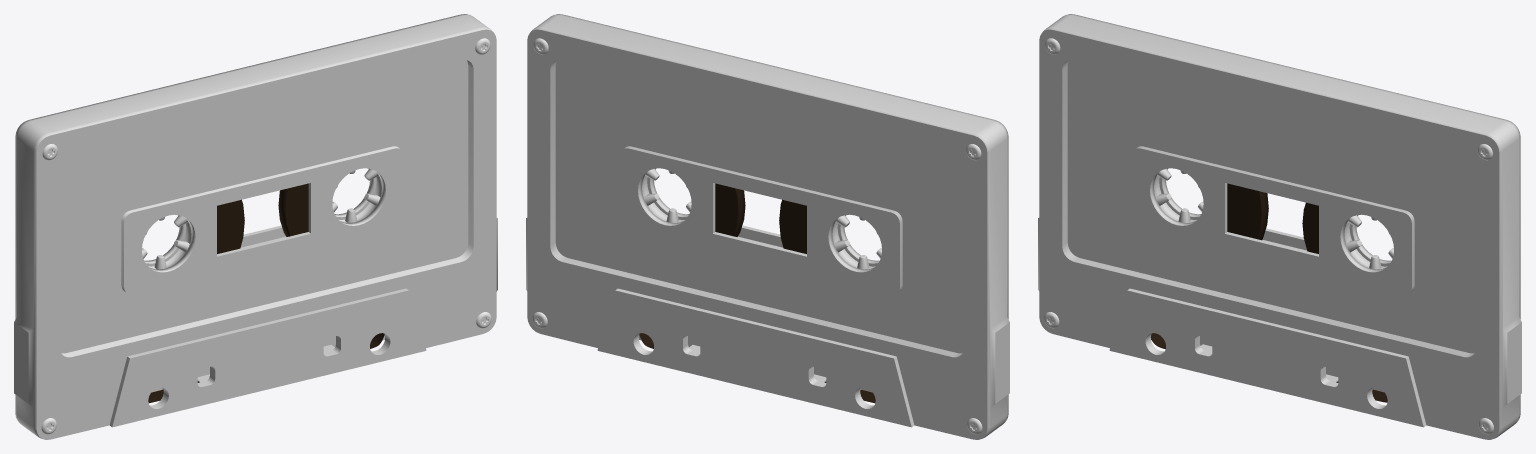
The model's file is Cassette.glb.
3 renders of one model, left to right at view 1: azimuth 30°, elevation 25°; view 2: azimuth 150°, elevation 25°; view 3: azimuth 330°, elevation 25°, orthographic.
Parts seen in each view (by area): view 1: Cassette, Tape, Wheel Cogs, Screws; view 2: Cassette, Tape, Wheel Cogs, Screws; view 3: Cassette, Tape, Wheel Cogs, Screws.
Part boxes in pixels (box(x1,y1,x2,y2)): Cassette: box(14, 14, 497, 439); Tape: box(217, 183, 308, 253); Wheel Cogs: box(142, 168, 380, 269); Screws: box(41, 38, 491, 434); Cassette: box(526, 14, 1009, 439); Tape: box(715, 183, 806, 253); Wheel Cogs: box(643, 168, 881, 269); Screws: box(532, 38, 982, 434); Cassette: box(1038, 14, 1521, 439); Tape: box(1227, 183, 1318, 253); Wheel Cogs: box(1155, 168, 1393, 269); Screws: box(1044, 38, 1493, 434).
Bounding box in the file's own units: 4.98 × 3.1 × 0.4928.
